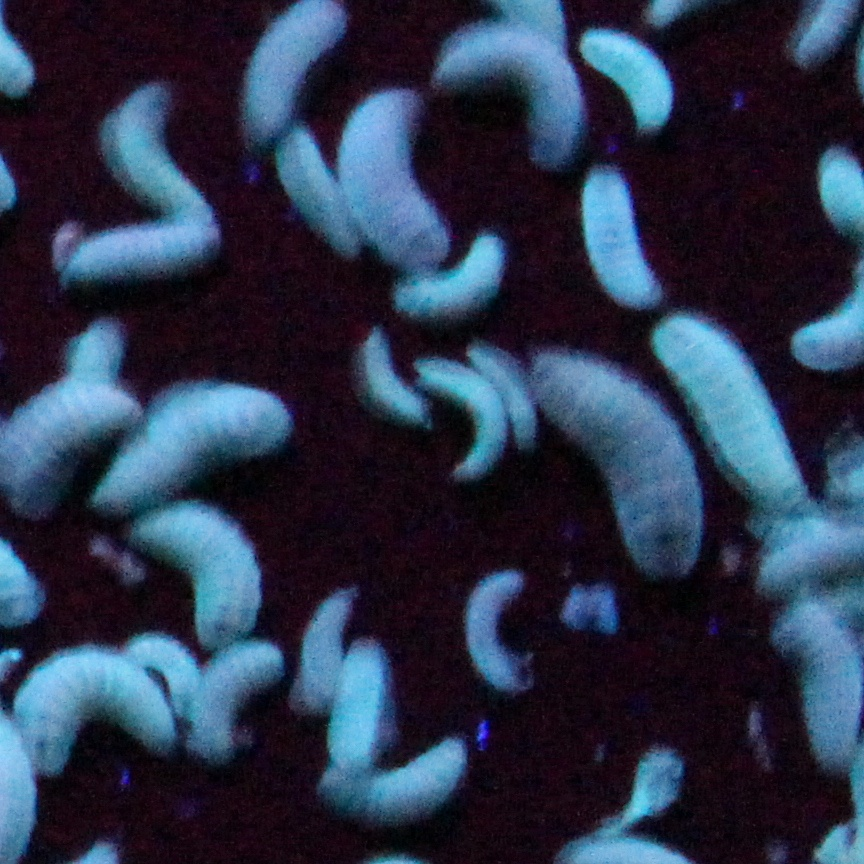larve: (527, 345, 707, 583), (663, 316, 819, 508), (94, 383, 292, 510), (430, 30, 586, 170), (11, 651, 182, 774), (344, 89, 455, 260), (98, 74, 217, 224), (140, 503, 257, 637), (575, 160, 665, 308), (417, 349, 511, 487), (273, 128, 365, 262), (180, 641, 284, 755), (323, 735, 469, 816), (580, 24, 677, 133), (463, 564, 540, 695), (388, 239, 511, 318), (55, 224, 230, 278), (332, 635, 390, 766), (357, 328, 432, 422)
